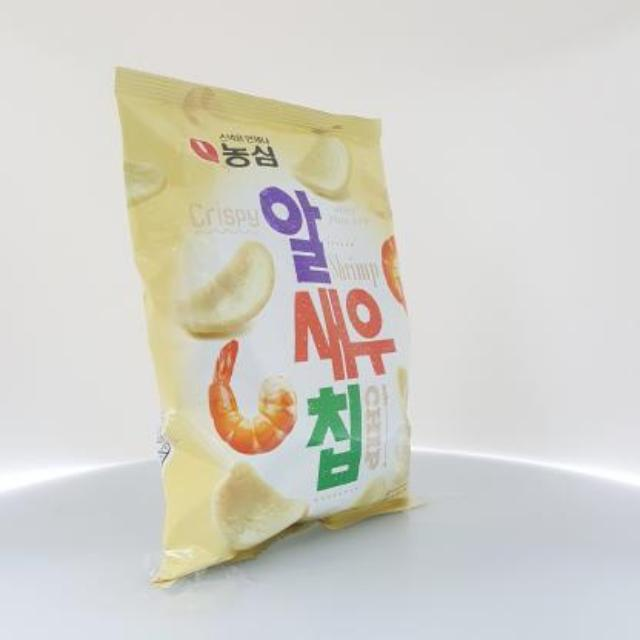snack_bag: (101, 52, 447, 604)
